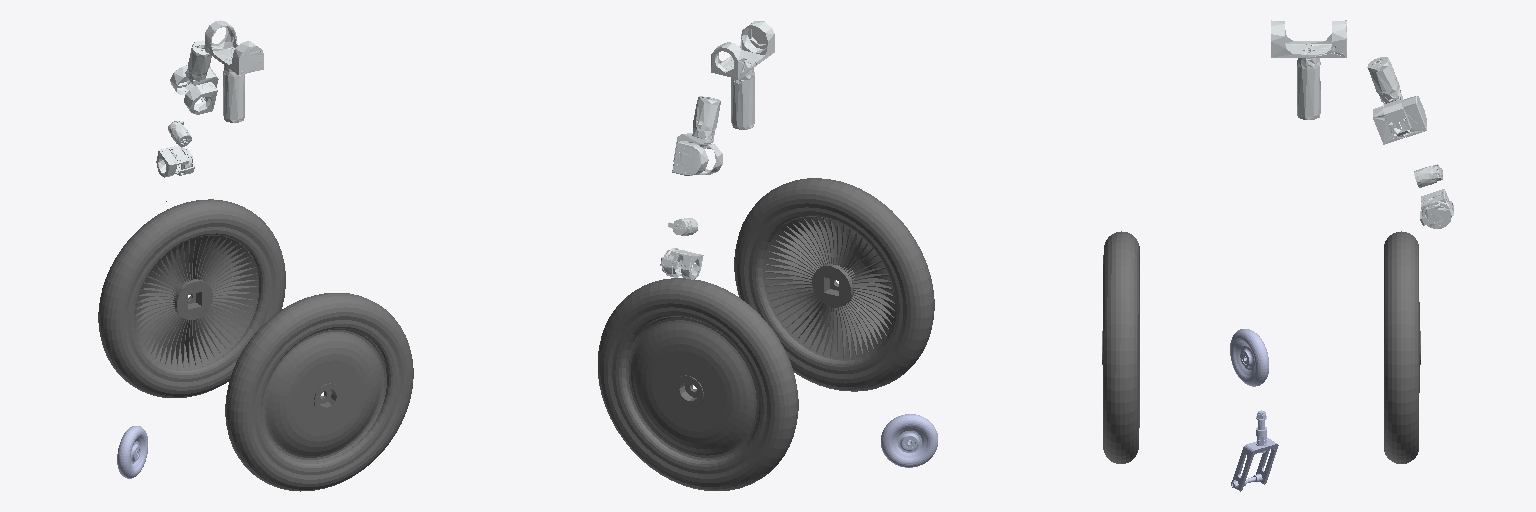
robot.urdf — vizzy_description:
<robot
  name="vizzy_description" >
  
  <link name="base_footprint">
   <!--<visual>
     <origin xyz="0 0 0" rpy="0 0 0" />
     <geometry>
       <box size="0.001 0.001 0.001" />
     </geometry>
   </visual>-->
  </link>

  <joint name="base_footprint_joint" type="fixed">
   <origin xyz="0 0 0" rpy="0 0 0" />
   <parent link="base_footprint"/>
   <child link="base_link" />
  </joint>
  
  <link
    name="base_link">
    <inertial>
      <origin
        xyz="0.19 0 0.2"
        rpy="0 0 0" />
      <mass
        value="11.7973473742999" />
      <inertia
        ixx="0.438925207385402"
        ixy="0.000141568676799447"
        ixz="7.95805262167885E-07"
        iyy="0.326554522375815"
        iyz="0.00194386671838748"
        izz="0.296176192213331" />
    </inertial>
    <visual>
      <origin
        xyz="0.188 0.001 0.197"
        rpy="0 0 0" />
      <geometry>
        <mesh
          filename="package://vizzy_description/meshes/Segway.dae" />
      </geometry>
      <material
        name="">
        <color
          rgba="0.866666666666667 0.866666666666667 0.890196078431373 1" />
      </material>
    </visual>
    <collision>
      <origin
        xyz="0.19 0 0.2"
        rpy="0 0 0" />
      <geometry>
        <mesh
          filename="package://vizzy_description/meshes/Segway.dae" />
      </geometry>
    </collision>
  </link>
  <link
    name="f_wheel_base_link">
    <inertial>
      <origin
        xyz="-0.0118 0.0084 0.083"
        rpy="0 0 0" />
      <mass
        value="0.0522202580480446" />
      <inertia
        ixx="0.000109063640814005"
        ixy="1.29634203029402E-06"
        ixz="-2.56834920297101E-05"
        iyy="0.000107815897797672"
        iyz="1.74895161672912E-05"
        izz="3.21409232257602E-05" />
    </inertial>
    <visual>
      <origin
        xyz="-0.0118 0.0084 0.083"
        rpy="0 0 0" />
      <geometry>
        <mesh
          filename="package://vizzy_description/meshes/Front.dae" />
      </geometry>
      <material
        name="">
        <color
          rgba="0.796078431372549 0.823529411764706 0.937254901960784 1" />
      </material>
    </visual>
    <collision>
      <origin
        xyz="-0.0118 0.0084 0.083"
        rpy="0 0 0" />
      <geometry>
        <mesh
          filename="package://vizzy_description/meshes/Front.dae" />
      </geometry>
    </collision>
  </link>
  <joint
    name="f_wheel_base_joint"
    type="continuous">
    <origin
      xyz="0.43986 0.001 0.14806"
      rpy="3.1416 0.0 0.0" />
    <parent
      link="base_link" />
    <child
      link="f_wheel_base_link" />
    <axis
      xyz="0 0 1" />
    <dynamics damping="0.1"/>
  </joint>
  <link
    name="f_wheel_link">
    <inertial>
      <origin
        xyz="0 0 0"
        rpy="0 0 0" />
      <mass
        value="0.146715525294139" />
      <inertia
        ixx="0.000105012932391273"
        ixy="-1.06408513998821E-20"
        ixz="-6.7762635780344E-21"
        iyy="0.000105012932391273"
        iyz="4.99749438880037E-20"
        izz="0.00019960379578771" />
    </inertial>
    <visual>
      <origin
        xyz="0 0 0"
        rpy="0 0 0" />
      <geometry>
        <mesh
          filename="package://vizzy_description/meshes/F_W.dae" />
      </geometry>
      <material
        name="">
        <color
          rgba="0.796078431372549 0.823529411764706 0.937254901960784 1" />
      </material>
    </visual>
    <collision>
      <origin
        xyz="0 0 0"
        rpy="0 0 0" />
      <geometry>
        <mesh
          filename="package://vizzy_description/meshes/F_W.dae" />
      </geometry>
    </collision>
  </link>
  <joint
    name="f_wheel_joint"
    type="continuous">
    <origin
      xyz="-0.030027 0.020142 0.138923486"
      rpy="-1.5708 0.83904 2.5507" />
    <parent
      link="f_wheel_base_link" />
    <child
      link="f_wheel_link" />
    <axis
      xyz="0 0 1" />
  </joint>
  <link
    name="b_wheel_base_link">
    <inertial>
      <origin
        xyz="-0.0118 0.0084 0.083"
        rpy="0 0 0" />
      <mass
        value="0.0522202580480446" />
      <inertia
        ixx="0.000109063640814005"
        ixy="1.29634203029405E-06"
        ixz="-2.568349202971E-05"
        iyy="0.000107815897797672"
        iyz="1.74895161672911E-05"
        izz="3.21409232257601E-05" />
    </inertial>
    <visual>
      <origin
        xyz="-0.0118 0.0084 0.083"
        rpy="0 0 0" />
      <geometry>
        <mesh
          filename="package://vizzy_description/meshes/Back.dae" />
      </geometry>
      <material
        name="">
        <color
          rgba="0.796078431372549 0.823529411764706 0.937254901960784 1" />
      </material>
    </visual>
    <collision>
      <origin
        xyz="-0.0118 0.0084 0.083"
        rpy="0 0 0" />
      <geometry>
        <mesh
          filename="package://vizzy_description/meshes/Back.dae" />
      </geometry>
    </collision>
  </link>
  <joint
    name="b_wheel_base_joint"
    type="continuous">
    <origin
      xyz="-0.060139 0.001 0.14806"
      rpy="3.1416 0.0 0.0" />
    <parent
      link="base_link" />
    <child
      link="b_wheel_base_link" />
    <axis
      xyz="0 0 1" />
    <dynamics damping="0.1"/>
  </joint>
  <link
    name="b_wheel_link">
    <inertial>
      <origin
        xyz="0 0 0"
        rpy="0 0 0" />
      <mass
        value="0.146715525294139" />
      <inertia
        ixx="0.000105012932391273"
        ixy="1.07996700774923E-20"
        ixz="-1.6940658945086E-21"
        iyy="0.000105012932391273"
        iyz="-1.18584612615602E-20"
        izz="0.00019960379578771" />
    </inertial>
    <visual>
      <origin
        xyz="0 0 0"
        rpy="0 0 0" />
      <geometry>
        <mesh
          filename="package://vizzy_description/meshes/B_W.dae" />
      </geometry>
      <material
        name="">
        <color
          rgba="0.796078431372549 0.823529411764706 0.937254901960784 1" />
      </material>
    </visual>
    <collision>
      <origin
        xyz="0 0 0"
        rpy="0 0 0" />
      <geometry>
        <mesh
          filename="package://vizzy_description/meshes/B_W.dae" />
      </geometry>
    </collision>
  </link>
  <joint
    name="b_wheel_joint"
    type="continuous">
    <origin
      xyz="-0.0300271872634975 0.0201420335543447 0.138923486"
      rpy="-1.5707963267949 0.83904346430428 2.5507386456365" />
    <parent
      link="b_wheel_base_link" />
    <child
      link="b_wheel_link" />
    <axis
      xyz="0 0 1" />
  </joint>
  <link
    name="r_wheel_link">
    <inertial>
      <origin
        xyz="0 0 0"
        rpy="0 0 0" />
      <mass
        value="1.22861917507719" />
      <inertia
        ixx="0.0106873251772162"
        ixy="4.79944507056635E-17"
        ixz="3.53158602954754E-16"
        iyy="0.0106873821917694"
        iyz="1.38940097207607E-06"
        izz="0.0205152843016012" />
    </inertial>
    <visual>
      <origin
        xyz="0 0 0"
        rpy="0 0 0" />
      <geometry>
        <mesh
          filename="package://vizzy_description/meshes/Left.dae" />
      </geometry>
      <material
        name="">
        <color
          rgba="0.494117647058824 0.494117647058824 0.494117647058824 1" />
      </material>
    </visual>
    <collision>
      <origin
        xyz="0 0 0"
        rpy="0 0 0" />
      <geometry>
        <mesh
          filename="package://vizzy_description/meshes/Left.dae" />
      </geometry>
    </collision>
  </link>
  <joint
    name="r_wheel_joint"
    type="continuous">
    <origin
      xyz="0.18986 0.246 0.15814"
      rpy="1.5708 1.5708 0" />
    <parent
      link="base_link" />
    <child
      link="r_wheel_link" />
    <axis
      xyz="0 0 1" />
  </joint>
  <link
    name="l_wheel_link">
    <inertial>
      <origin
        xyz="0 0 0"
        rpy="3.15 0 0" />
      <mass
        value="1.22861917507742" />
      <inertia
        ixx="0.0106873471854323"
        ixy="7.49808591987845E-18"
        ixz="-1.93571153328442E-16"
        iyy="0.0106874041999854"
        iyz="1.38940098137139E-06"
        izz="0.0205152843016018" />
    </inertial>
    <visual>
      <origin
        xyz="0 0 0"
        rpy="3.15 0 0" />
      <geometry>
        <mesh
          filename="package://vizzy_description/meshes/Right.dae" />
      </geometry>
      <material
        name="">
        <color
          rgba="0.494117647058824 0.494117647058824 0.494117647058824 1" />
      </material>
    </visual>
    <collision>
      <origin
        xyz="0 0 0"
        rpy="3.15 0 0" />
      <geometry>
        <mesh
          filename="package://vizzy_description/meshes/Right.dae" />
      </geometry>
    </collision>
  </link>
  <joint
    name="l_wheel_joint"
    type="continuous">
    <origin
      xyz="0.18986 -0.244 0.15814"
      rpy="1.5708 1.5708 0" />
    <parent
      link="base_link" />
    <child
      link="l_wheel_link" />
    <axis
      xyz="0 0 1" />
  </joint>

  <link
    name="waist_link">
    <inertial>
      <origin
        xyz="0.0 0.113 0.0"
        rpy="0.0 3.14159265358979 0.0" />
      <mass
        value="1.52801214308198" />
      <inertia
        ixx="0.0152197122703999"
        ixy="-0.000217387828540953"
        ixz="-2.16469131237159E-06"
        iyy="0.00325229915840824"
        iyz="0.000261589513226157"
        izz="0.0128988018329273" />
    </inertial>
    <visual>
      <origin
        xyz="0.0 0.113 0.0"
        rpy="0.0 3.14159265358979 0.0" />
      <geometry>
        <mesh
          filename="package://vizzy_description/meshes/M0.dae" />
      </geometry>
      <material
        name="">
        <color
          rgba="0.898039215686275 0.917647058823529 0.929411764705882 1" />
      </material>
    </visual>
    <collision>
      <origin
        xyz="0.0 0.113 0.0"
        rpy="0.0 3.14159265358979 0.0" />
      <geometry>
        <mesh
          filename="package://vizzy_description/meshes/M0.dae" />
      </geometry>
    </collision>
  </link>
  <joint
    name="waist_joint"
    type="revolute">
    <origin
      xyz="0.189861451370331 0.0 0.535796910356883"
      rpy="1.5708 0.0 0.0" />
    <parent
      link="base_link" />
    <child
      link="waist_link" />
    <axis
      xyz="0 0 1" />
    <limit lower="-0.34906585" upper="0.34906585" effort="10" velocity="3" />
    <dynamics damping="0.1"/>
  </joint>
  
  <link name="r_shoulder_scapula_link">
    <inertial>
      <origin
        xyz="0 0 0.166"
        rpy="0 -3.1416 0" />
      <mass
        value="0.328838093982794" />
      <inertia
        ixx="0.00123108428695986"
        ixy="-7.89100940163704E-11"
        ixz="6.34844936183615E-10"
        iyy="0.000919898935949979"
        iyz="7.50425183699034E-05"
        izz="0.000480033534097503" />
    </inertial>
    <visual>
      <origin
        xyz="0 0 0.166"
        rpy="0 -3.1416 0" />
      <geometry>
        <mesh
          filename="package://vizzy_description/meshes/M0R.dae" />
      </geometry>
      <material
        name="">
        <color
          rgba="0.898039215686275 0.917647058823529 0.929411764705882 1" />
      </material>
    </visual>
    <collision>
      <origin
        xyz="0 0 0.166"
        rpy="0 -3.1416 0" />
      <geometry>
        <mesh
          filename="package://vizzy_description/meshes/M0R.dae" />
      </geometry>
    </collision>
  </link>
  <joint
    name="r_shoulder_scapula_joint"
    type="revolute">
    <origin
      xyz="0.0 0.0 -0.0805"
      rpy="-1.5707 0.0 0.0" />
    <parent
      link="waist_link" />
    <child
      link="r_shoulder_scapula_link" />
    <axis
      xyz="0 0 1" />
    <limit lower="-0.314159265" upper="0.314159265" effort="10" velocity="3" />
  </joint>
  <link
    name="r_shoulder_flection_link">
    <inertial>
      <origin
        xyz="0.0 0.0 0.0479999999999997"
        rpy="0.0 3.1416 -4.1963" />
      <mass
        value="0.32970750458976" />
      <inertia
        ixx="0.00116793345082586"
        ixy="-0.000134890089770505"
        ixz="3.78931445548874E-05"
        iyy="0.00101232051019094"
        iyz="-6.56607928268466E-05"
        izz="0.000480378760663095" />
    </inertial>
    <visual>
      <origin
        xyz="0.0 0.0 0.0479999999999997"
        rpy="0.0 3.1416 -4.1963" />
      <geometry>
        <mesh
          filename="package://vizzy_description/meshes/M1R.dae" />
      </geometry>
      <material
        name="">
        <color
          rgba="0.898039215686275 0.917647058823529 0.929411764705882 1" />
      </material>
    </visual>
    <collision>
      <origin
        xyz="0.0 0.0 0.0479999999999997"
        rpy="0.0 3.1416 -4.1963" />
      <geometry>
        <mesh
          filename="package://vizzy_description/meshes/M1R.dae" />
      </geometry>
    </collision>
  </link>
  <joint
    name="r_shoulder_flection_joint"
    type="revolute">
    <origin
      xyz="0.0 0.0 0.212"
      rpy="-1.5707 0.0 0.0" />
    <parent
      link="r_shoulder_scapula_link" />
    <child
      link="r_shoulder_flection_link" />
    <axis
      xyz="0 0 1" />
    <limit lower="-1.30899694" upper="2.35619449" effort="10" velocity="3" />
  </joint>
  <link
    name="r_shoulder_abduction_link">
    <inertial>
      <origin
        xyz="0.034 0.009 -0.001"
        rpy="0 3.1416 -1.2217" />
      <mass
        value="0.337952134649786" />
      <inertia
        ixx="0.000722844158320218"
        ixy="-4.62401500200836E-05"
        ixz="-1.45396813798355E-06"
        iyy="0.000316566986726189"
        iyz="1.40155770580819E-05"
        izz="0.00057775987279214" />
    </inertial>
    <visual>
      <origin
        xyz="0.034 0.009 -0.001"
        rpy="0 3.1416 -1.2217" />
      <geometry>
        <mesh
          filename="package://vizzy_description/meshes/M2R.dae" />
      </geometry>
      <material
        name="">
        <color
          rgba="0.898039215686275 0.917647058823529 0.929411764705882 1" />
      </material>
    </visual>
    <collision>
      <origin
        xyz="0.034 0.009 -0.001"
        rpy="0 3.1416 -1.2217" />
      <geometry>
        <mesh
          filename="package://vizzy_description/meshes/M2R.dae" />
      </geometry>
    </collision>
  </link>
  <joint
    name="r_shoulder_abduction_joint"
    type="revolute">
    <origin
      xyz="0.0 0.0 0.10256"
      rpy="1.5707 0.0 1.5707" />
    <parent
      link="r_shoulder_flection_link" />
    <child
      link="r_shoulder_abduction_link" />
    <axis
      xyz="0 0 1" />
    <limit lower="0" upper="1.30899694" effort="10" velocity="3" />
  </joint>
  <link
    name="r_shoulder_rotation_link">
    <inertial>
      <origin
        xyz="-0.003 -0.006 0.127"
        rpy="3.1416 0 -1.5707" />
      <mass
        value="0.302328098083101" />
      <inertia
        ixx="0.000615246412768918"
        ixy="-4.12473635541355E-06"
        ixz="-6.13280078197927E-05"
        iyy="0.000574849538917934"
        iyz="-2.49114717380023E-05"
        izz="0.000240227819685505" />
    </inertial>
    <visual>
      <origin
        xyz="-0.003 -0.006 0.127"
        rpy="3.1416 0 -1.5707" />
      <geometry>
        <mesh
          filename="package://vizzy_description/meshes/M3R.dae" />
      </geometry>
      <material
        name="">
        <color
          rgba="0.898039215686275 0.917647058823529 0.929411764705882 1" />
      </material>
    </visual>
    <collision>
      <origin
        xyz="-0.003 -0.006 0.127"
        rpy="3.1416 0 -1.5707" />
      <geometry>
        <mesh
          filename="package://vizzy_description/meshes/M3R.dae" />
      </geometry>
    </collision>
  </link>
  <joint
    name="r_shoulder_rotation_joint"
    type="revolute">
    <origin
      xyz="0.0 0.0 0.0"
      rpy="-1.5707 0.0 -1.2217" />
    <parent
      link="r_shoulder_abduction_link" />
    <child
      link="r_shoulder_rotation_link" />
    <axis
      xyz="0 0 1" />
    <limit lower="-1.48352986" upper="1.48352986" effort="10" velocity="3" />
  </joint>
  <link
    name="r_elbow_flection_link">
    <inertial>
      <origin
        xyz="-0.002 -0.035 0.0"
        rpy="0 0 3.1416" />
      <mass
        value="0.224019872068973" />
      <inertia
        ixx="0.000224266812490421"
        ixy="7.91977782063514E-06"
        ixz="2.45606472556753E-07"
        iyy="9.89758932648508E-05"
        iyz="9.59616898464483E-06"
        izz="0.000213841891572994" />
    </inertial>
    <visual>
      <origin
        xyz="-0.002 -0.035 0.0"
        rpy="0 0 3.1416" />
      <geometry>
        <mesh
          filename="package://vizzy_description/meshes/M4R.dae" />
      </geometry>
      <material
        name="">
        <color
          rgba="0.898039215686275 0.917647058823529 0.929411764705882 1" />
      </material>
    </visual>
    <collision>
      <origin
        xyz="-0.002 -0.035 0.0"
        rpy="0 0 3.1416" />
      <geometry>
        <mesh
          filename="package://vizzy_description/meshes/M4R.dae" />
      </geometry>
    </collision>
  </link>
  <joint
    name="r_elbow_flection_joint"
    type="revolute">
    <origin
      xyz="0.0 0.0 0.16296"
      rpy="-1.5707 0.0 1.5707" />
    <parent
      link="r_shoulder_rotation_link" />
    <child
      link="r_elbow_flection_link" />
    <axis
      xyz="0 0 1" />
    <limit lower="0" upper="1.91986218" effort="10" velocity="3" />
  </joint>
  <link
    name="r_forearm_pronation_link">
    <inertial>
      <origin
        xyz="0.00 -0.007 -0.11"
        rpy="0.0 0.0 1.5707" />
      <mass
        value="0.19252548105039" />
      <inertia
        ixx="0.000215803119910502"
        ixy="-6.086463167521E-08"
        ixz="9.78455040630467E-06"
        iyy="0.000229047404557263"
        iyz="-3.19642916101682E-07"
        izz="0.000102658318305363" />
    </inertial>
    <visual>
      <origin
        xyz="0.00 -0.007 -0.11"
        rpy="0.0 0.0 1.5707" />
      <geometry>
        <mesh
          filename="package://vizzy_description/meshes/M5R.dae" />
      </geometry>
      <material
        name="">
        <color
          rgba="0.898039215686275 0.917647058823529 0.929411764705882 1" />
      </material>
    </visual>
    <collision>
      <origin
        xyz="0.00 -0.007 -0.11"
        rpy="0.0 0.0 1.5707" />
      <geometry>
        <mesh
          filename="package://vizzy_description/meshes/M5R.dae" />
      </geometry>
    </collision>
  </link>
  <joint
    name="r_forearm_pronation_joint"
    type="revolute">
    <origin
      xyz="0.0 0.0 0.0"
      rpy="1.5707 0.0 3.1416" />
    <parent
      link="r_elbow_flection_link" />
    <child
      link="r_forearm_pronation_link" />
    <axis
      xyz="0 0 1" />
    <limit lower="-1.48352986" upper="1.48352986" effort="10" velocity="3" />
  </joint>
  <link
    name="r_wrist_abduction_link">
    <inertial>
      <origin
        xyz="0.0047 0.028 -0.003"
        rpy="3.1416 3.1416 0" />
      <mass
        value="0.15130263687109" />
      <inertia
        ixx="0.000206280948481805"
        ixy="-2.10167871847464E-05"
        ixz="-1.95502541303483E-06"
        iyy="7.18084114032176E-05"
        iyz="1.63557763545568E-05"
        izz="0.000199867817507994" />
    </inertial>
    <visual>
      <origin
        xyz="0.0047 0.028 -0.003"
        rpy="3.1416 3.1416 0" />
      <geometry>
        <mesh
          filename="package://vizzy_description/meshes/M6R.dae" />
      </geometry>
      <material
        name="">
        <color
          rgba="0.898039215686275 0.917647058823529 0.929411764705882 1" />
      </material>
    </visual>
    <collision>
      <origin
        xyz="0.0047 0.028 -0.003"
        rpy="3.1416 3.1416 0" />
      <geometry>
        <mesh
          filename="package://vizzy_description/meshes/M6R.dae" />
      </geometry>
    </collision>
  </link>
  <joint
    name="r_wrist_abduction_joint"
    type="revolute">
    <origin
      xyz="0.0 0.0 -0.18925"
      rpy="1.5707 0.0 0.0" />
    <parent
      link="r_forearm_pronation_link" />
    <child
      link="r_wrist_abduction_link" />
    <axis
      xyz="0 0 1" />
    <limit lower="-0.610865238" upper="0.610865238" effort="10" velocity="3" />
  </joint>
  <link
    name="r_wrist_flection_link">
    <inertial>
      <origin
        xyz="0 0 -0.0068"
        rpy="0 3.1416 -1.5708" />
      <mass
        value="0.263247942991542" />
      <inertia
        ixx="0.00142191847625323"
        ixy="7.01996302951171E-06"
        ixz="-4.24188980462336E-05"
        iyy="0.000427941498537125"
        iyz="0.000132013848915951"
        izz="0.00103049250587026" />
    </inertial>
    <visual>
      <origin
        xyz="-0.106 -0.0077 0.017"
        rpy="0.0 3.1416 1.5707" />
      <geometry>
        <mesh
          filename="package://vizzy_description/meshes/M7R.dae" />
      </geometry>
      <material
        name="">
        <color
          rgba="0.898039215686275 0.917647058823529 0.929411764705882 1" />
      </material>
    </visual>
    <collision>
      <origin
        xyz="0 0 -0.0068"
        rpy="0 3.1416 -1.5708" />
      <geometry>
        <mesh
          filename="package://vizzy_description/meshes/M7R.dae" />
      </geometry>
    </collision>
  </link>
  <joint
    name="r_wrist_flection_joint"
    type="revolute">
    <origin
      xyz="0.0 0.0 0.0"
      rpy="-1.5707 0.0 1.5707" />
    <parent
      link="r_wrist_abduction_link" />
    <child
      link="r_wrist_flection_link" />
    <axis
      xyz="0 0 1" />
    <limit lower="-0.610865238" upper="0.610865238" effort="10" velocity="3" />
  </joint>
  <link name="r_palm_link">
   <visual>
      <origin xyz="0 0 0" rpy="0 0 0" />
      <geometry>
        <box size="0.001 0.001 0.001" />
      </geometry>
    </visual>
  </link>
  <joint name="r_palm_joint" type="fixed">
    <origin xyz="-0.1 0 0.0" rpy="1.5707 0.0 0.0" />
    <parent link="r_wrist_flection_link"/>
    <child link="r_palm_link" />
  </joint>

</robot>

--- What the picture shows (computed from the rendered views, not written in the file) ---
3 views of the same robot in one strip: view 1: azimuth 30°, elevation 25°; view 2: azimuth 150°, elevation 25°; view 3: azimuth 270°, elevation 25° (orthographic).
Model vizzy_description with 18 links and 17 joints (9 revolute, 6 continuous, 2 fixed), rooted at base_footprint, posed every joint at zero.
Visible links, largest first — view 1: l_wheel_link, r_wheel_link, r_shoulder_scapula_link, r_shoulder_rotation_link, r_wrist_abduction_link, b_wheel_link; view 2: r_wheel_link, l_wheel_link, r_shoulder_scapula_link, r_shoulder_rotation_link, b_wheel_link, r_wrist_abduction_link; view 3: l_wheel_link, r_wheel_link, r_shoulder_scapula_link, r_shoulder_rotation_link, b_wheel_link, f_wheel_base_link, r_wrist_abduction_link.
Link boxes in pixels (x1,y1,x2,y2): l_wheel_link: (225, 293, 413, 491); r_wheel_link: (98, 199, 285, 397); r_shoulder_scapula_link: (205, 20, 263, 122); r_shoulder_rotation_link: (170, 40, 218, 114); r_wrist_abduction_link: (156, 121, 194, 177); b_wheel_link: (117, 426, 147, 478); r_wheel_link: (598, 278, 798, 490); l_wheel_link: (734, 178, 934, 391); r_shoulder_scapula_link: (711, 21, 774, 129); r_shoulder_rotation_link: (672, 96, 722, 175); b_wheel_link: (881, 414, 937, 467); r_wrist_abduction_link: (660, 218, 703, 279); l_wheel_link: (1102, 231, 1139, 463); r_wheel_link: (1384, 231, 1420, 463); r_shoulder_scapula_link: (1271, 20, 1346, 119); r_shoulder_rotation_link: (1367, 57, 1426, 144); b_wheel_link: (1230, 329, 1268, 386); f_wheel_base_link: (1231, 410, 1278, 491); r_wrist_abduction_link: (1414, 164, 1453, 228).
Size in the robot's own frame: 0.6007 by 0.611 by 0.8181 metres.
Meshes: 16 distinct files referenced, 7 mesh visuals loaded (7 Collada DAE); not drawn: 9 (reference not matched to a file when rendering).